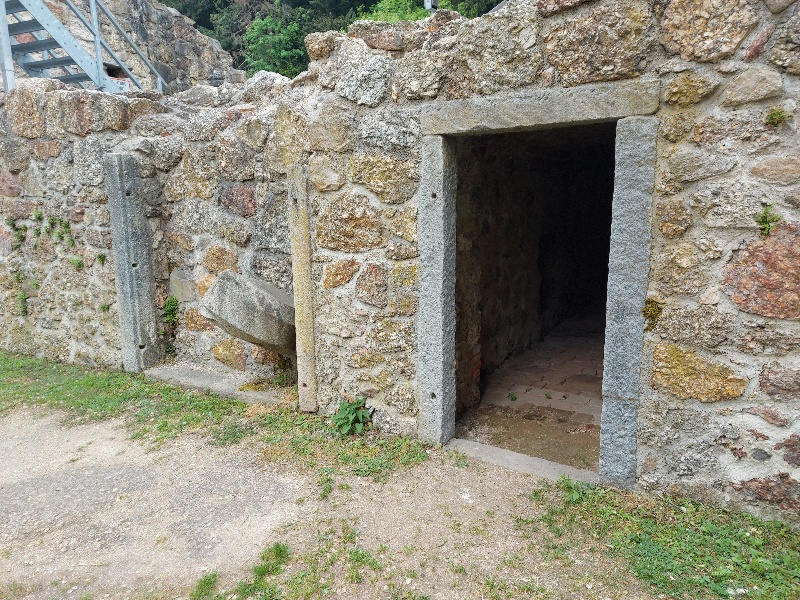door2: (412, 80, 683, 503)
